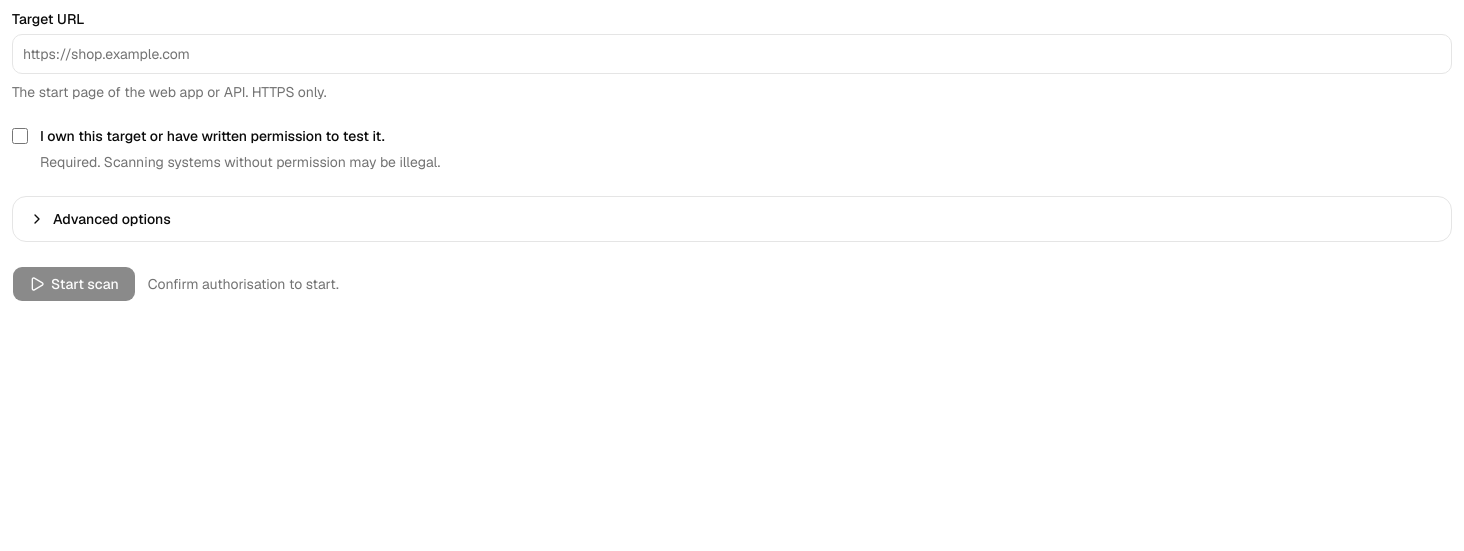
Test: NewScanForm: advanced options › is collapsed by default and explains each option
Step 1. Click the heading "Advanced options" → (100,219), box left=29, top=210, right=171, bottom=228
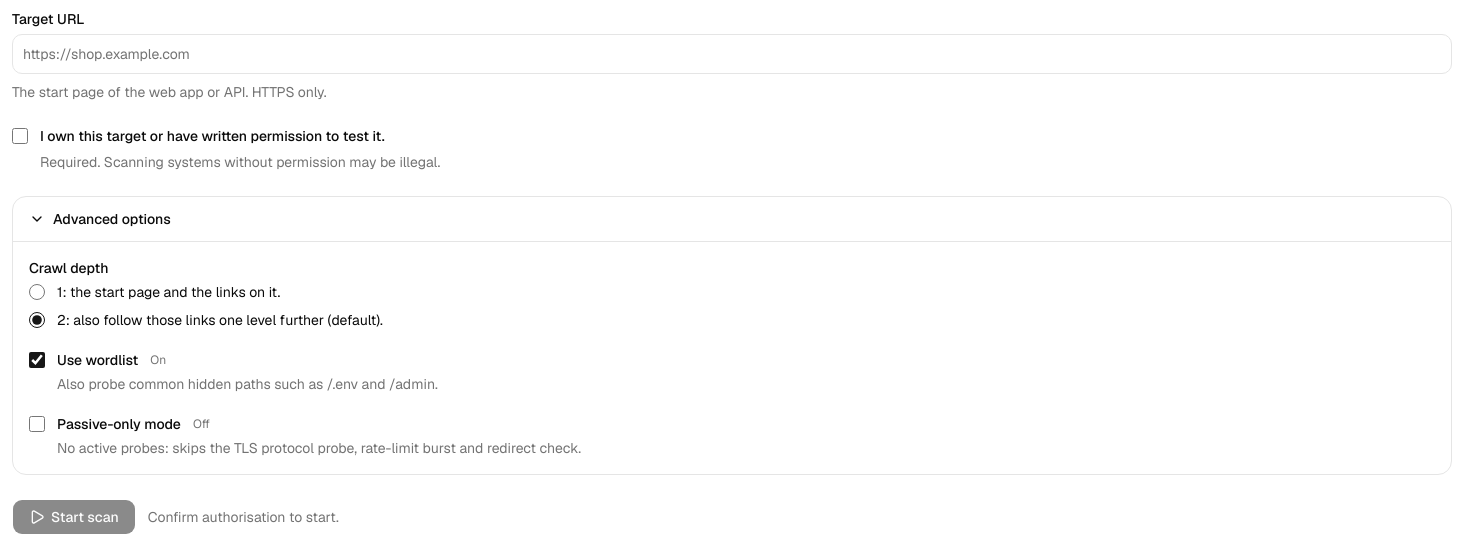
Now the radio button labelled "2: also follow those links one level further (default)." is checked, box left=29, top=312, right=45, bottom=328
Now the switch labelled "Use wordlist On" is checked, box left=29, top=352, right=45, bottom=368
Now the switch labelled "Passive-only mode Off" is not checked, box left=29, top=416, right=45, bottom=432
